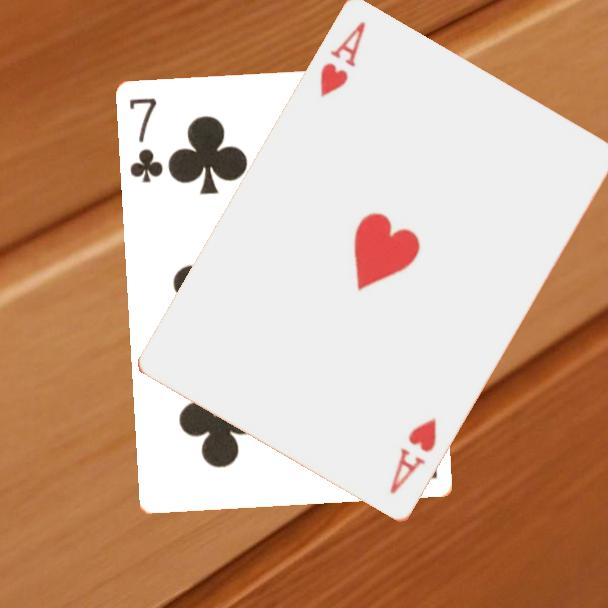c07: (126, 95, 167, 186)
h01: (386, 415, 440, 498), (316, 18, 369, 101)
